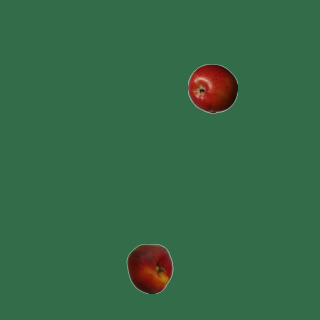Apple Braeburn: (187, 63, 237, 113)
Nectarine Flat: (124, 243, 174, 293)
